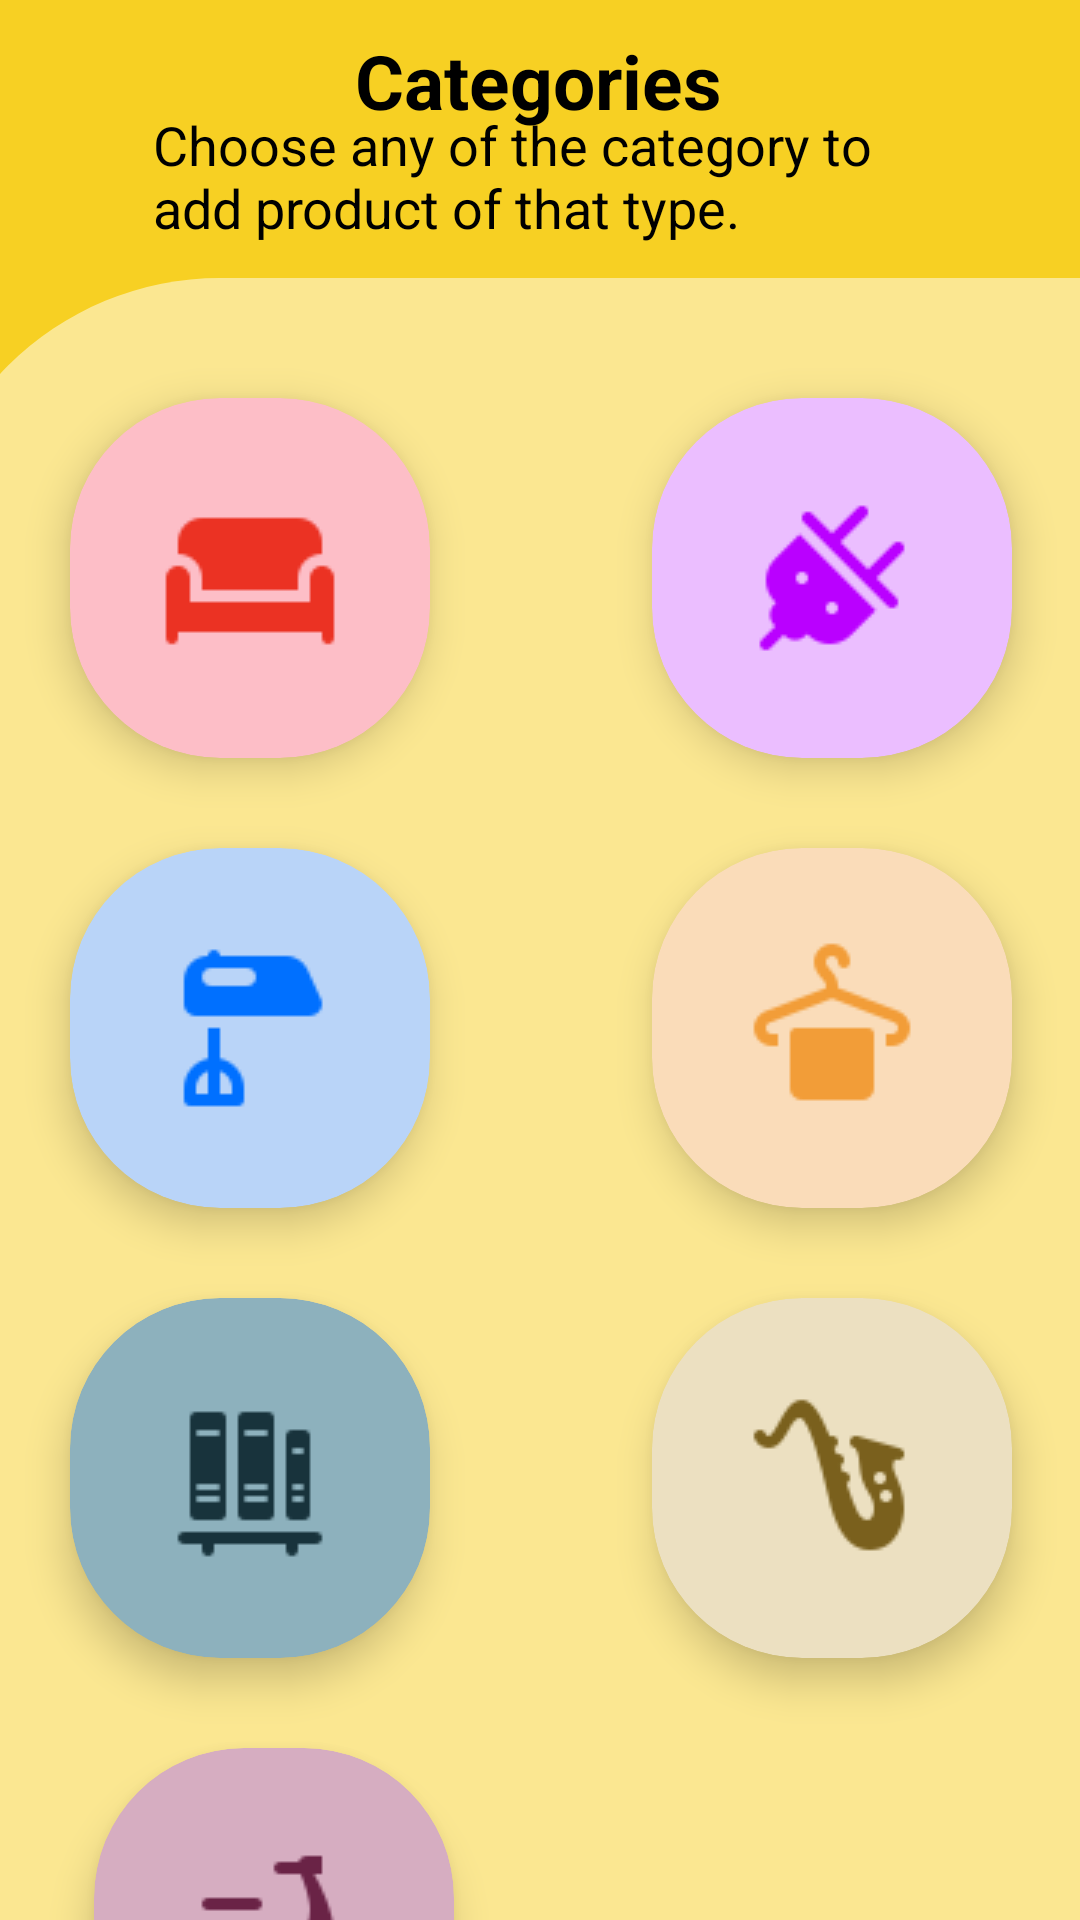

Where to tap for icons on this 1080px x 1920px app screen, as [x,y]:
bookshelf: [250,1484]
cloakroom: [832,1022]
electrical: [832,578]
mixer: [253,1028]
saxophone: [829,1475]
sofa: [250,581]
